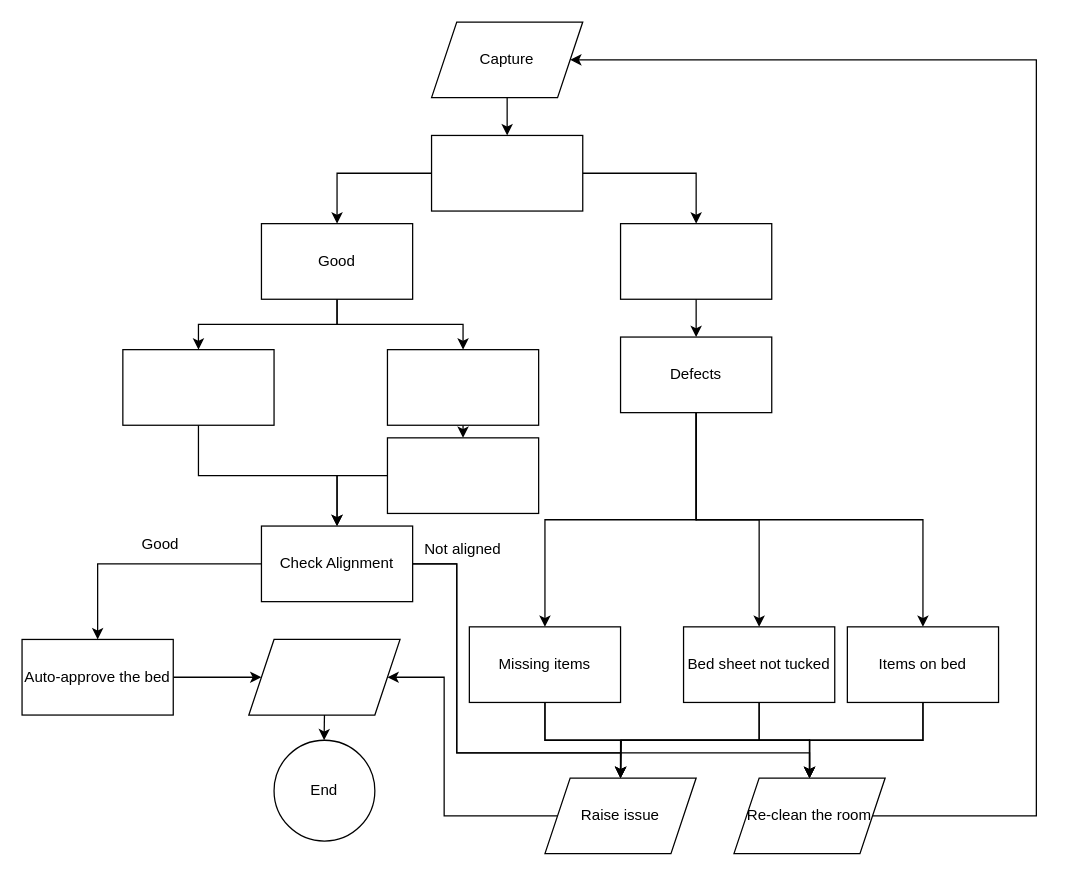
The diagram is 1068 pixels wide and 876 high, and some of its shapes have lost their labels. Each missing label, with the centre of its shape:
Bad / Confused (< 0.6 confidence): the point at 695,260
Confidence: the point at 198,386
Move to next bed: the point at 324,676
Not so confidence: the point at 462,386
Run model: the point at 506,172
Send to supervisor: the point at 462,475
